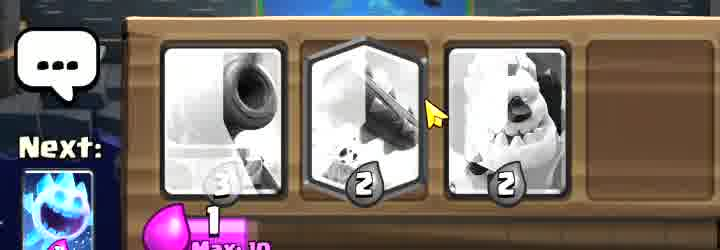ice-spirit: (24, 170, 94, 250)
